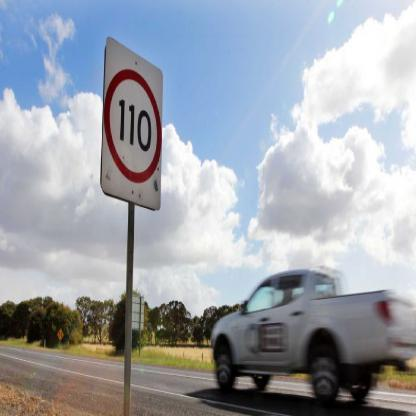Speed Limit 110: (104, 69, 162, 186)
